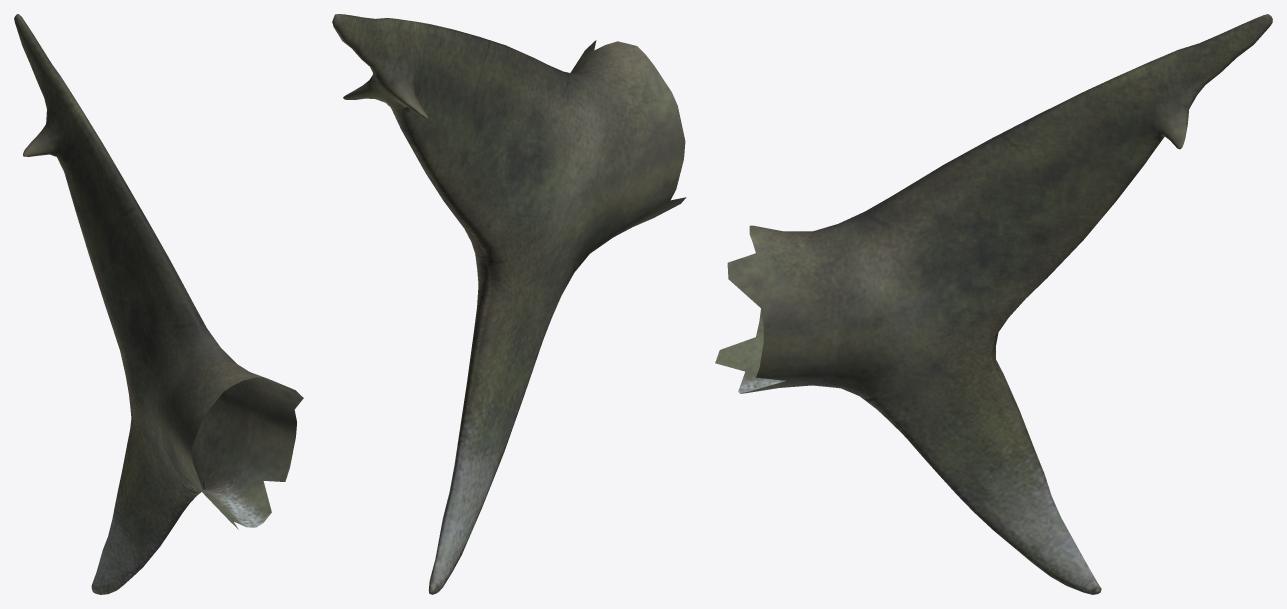
Rendered from Tiburon1_cola.obj.
3 renders of one model, left to right at view 1: azimuth 30°, elevation 25°; view 2: azimuth 150°, elevation 25°; view 3: azimuth 270°, elevation 25°, orthographic. The views are drawn at different scales.
Visible parts, largest first — view 1: white_tip_shark_LOD2.002; view 2: white_tip_shark_LOD2.002; view 3: white_tip_shark_LOD2.002.
Part boxes in pixels (box(x1,y1,x2,y2)): white_tip_shark_LOD2.002: box(14, 14, 303, 594); white_tip_shark_LOD2.002: box(332, 14, 686, 594); white_tip_shark_LOD2.002: box(715, 14, 1272, 594).
Size of the model in its own units: 9.09 by 43.04 by 37.49.
